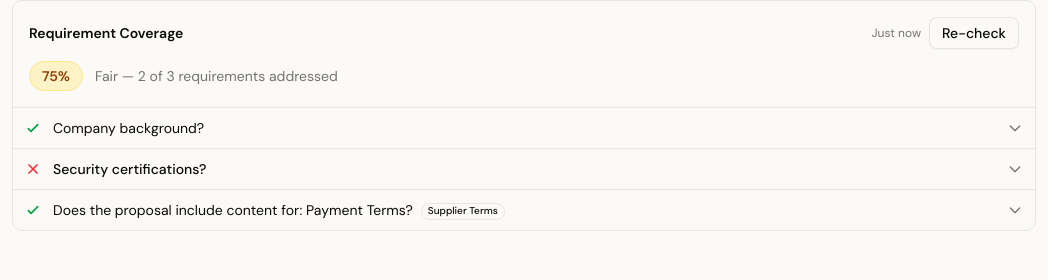
Scenario: CoverageReportPanel › shows evidence when expanding an addressed requirement
Click the button "Company background?": [129, 128] box [13,108,1035,148]
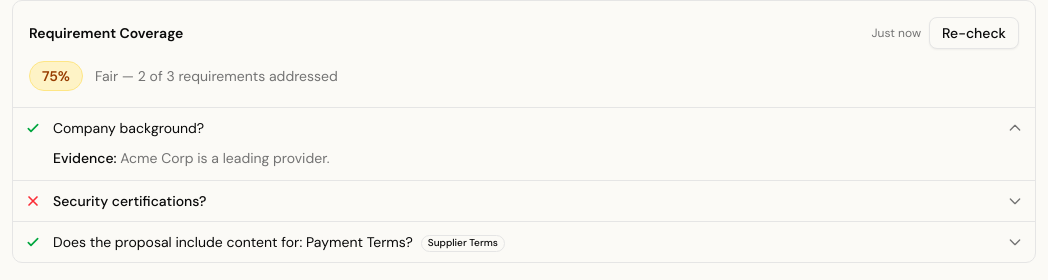
Expected: the text "Evidence: Acme Corp is a leading provider." is shown, [53,149,330,167]
